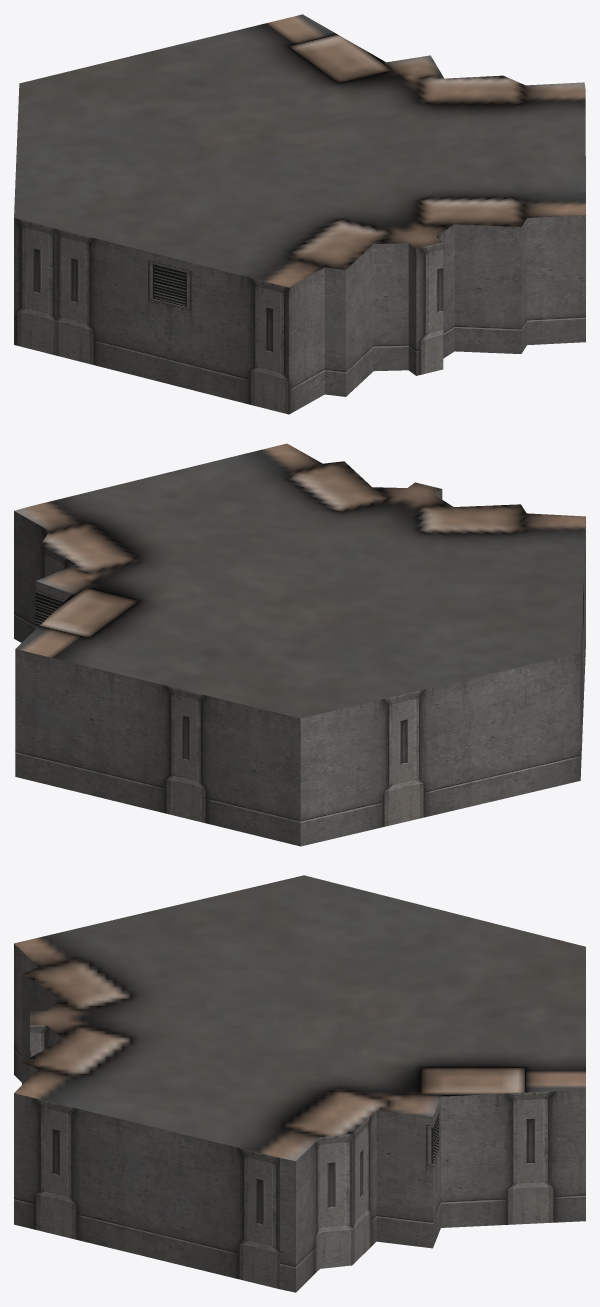
Rendered from building_hard_53.glb.
3 views of the same model, one above another, from view 1: azimuth 30°, elevation 25°; view 2: azimuth 150°, elevation 25°; view 3: azimuth 270°, elevation 25° (orthographic). The views are drawn at different scales.
Visible parts, largest first — view 1: buildings/saxarba/building_hard/building_hard_53; view 2: buildings/saxarba/building_hard/building_hard_53; view 3: buildings/saxarba/building_hard/building_hard_53.
Part boxes in pixels (x1,y1,x2,y2): buildings/saxarba/building_hard/building_hard_53: [14, 14, 585, 414]; buildings/saxarba/building_hard/building_hard_53: [14, 443, 585, 846]; buildings/saxarba/building_hard/building_hard_53: [14, 875, 585, 1292].
Size of the model in its own units: 84 by 18 by 71.
